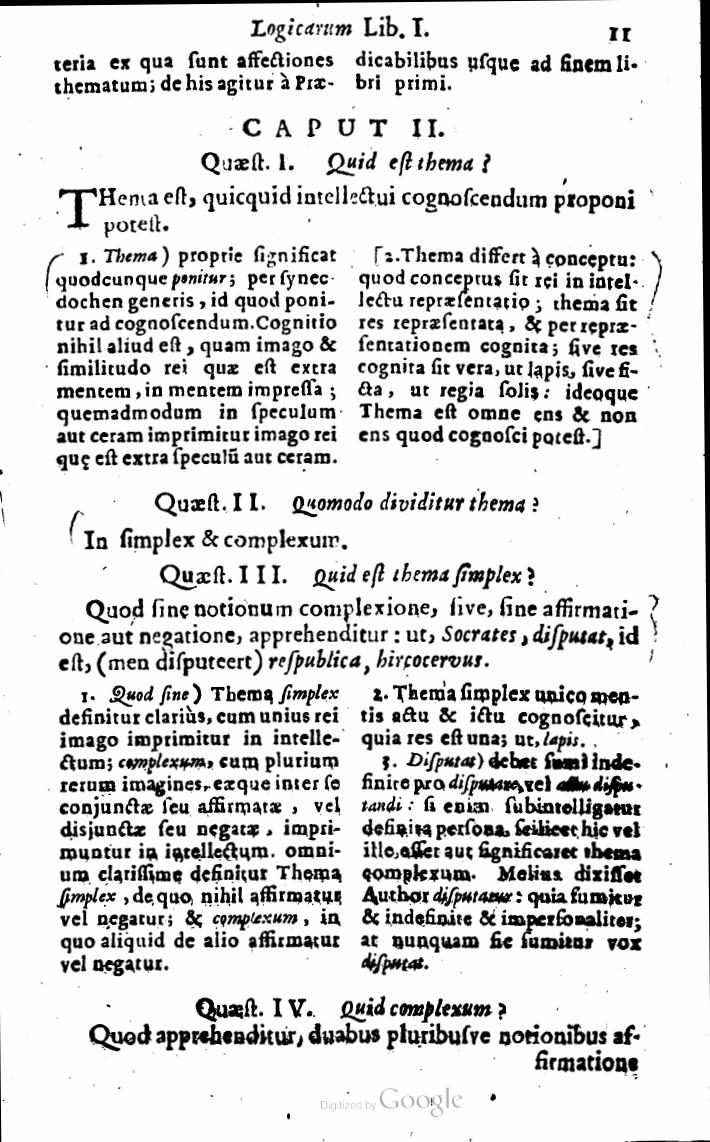bottom_p: (356, 47, 640, 96), (50, 50, 337, 97)
catchword: (534, 1047, 643, 1077)
full_p: (56, 680, 346, 976), (360, 750, 646, 979), (53, 246, 341, 469), (357, 243, 643, 453), (56, 594, 646, 677), (51, 183, 639, 240), (360, 680, 643, 749), (153, 489, 541, 523), (157, 560, 537, 590), (191, 991, 510, 1026), (194, 147, 496, 180), (59, 527, 351, 556), (240, 113, 447, 143)
header: (247, 11, 431, 46)
initial_l: (54, 186, 101, 230)
page_num: (606, 19, 633, 46)
top_p: (60, 1024, 640, 1049)
